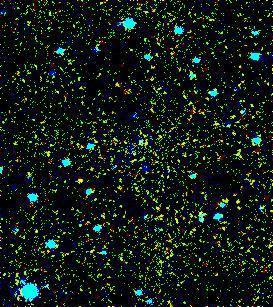star: (64, 166, 94, 196)
